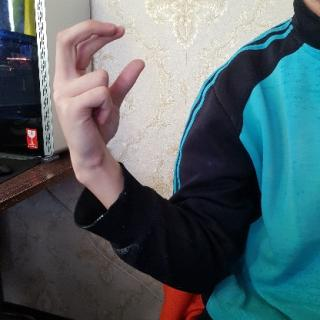DHELL: (53, 13, 152, 190)
